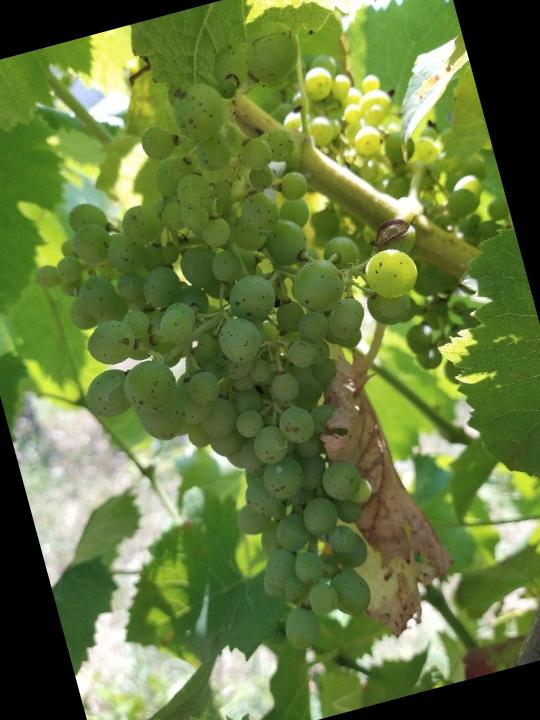grape: (0, 0, 513, 692)
